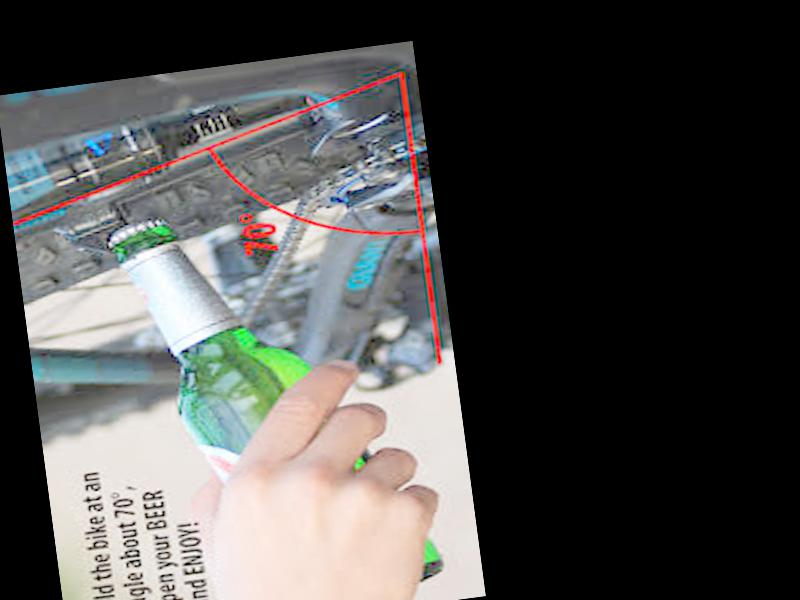Beer: (106, 182, 446, 600)
